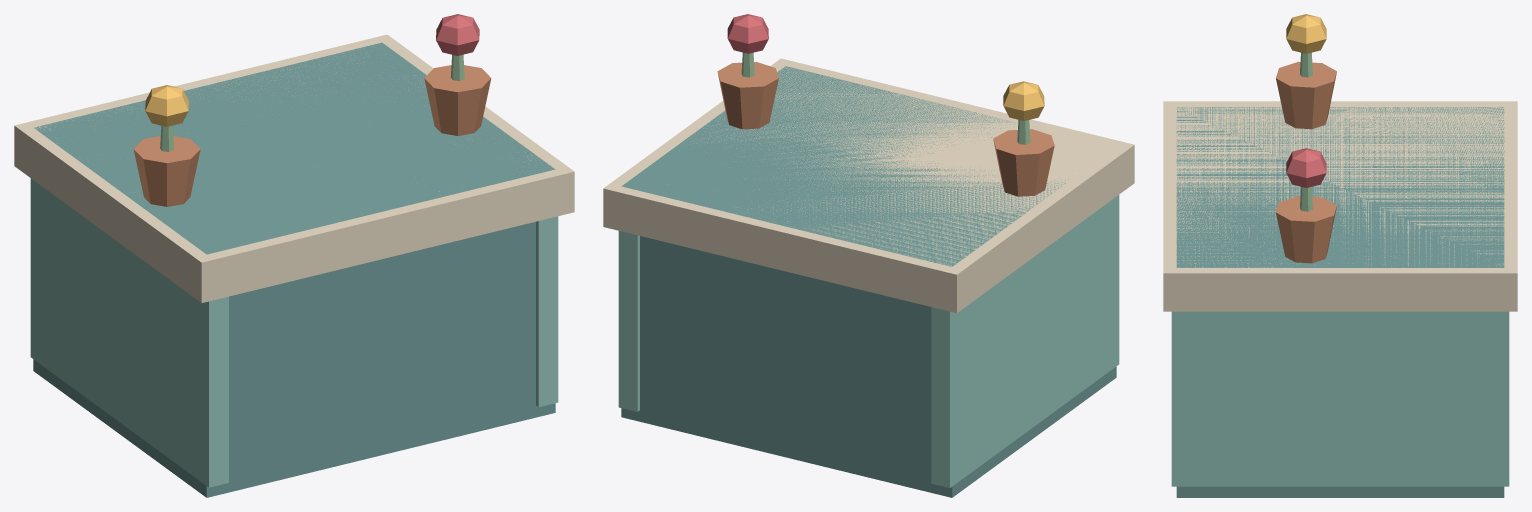
The model's file is FloristMiddleStep.glb.
3 views of the same model, side by side, from view 1: azimuth 30°, elevation 25°; view 2: azimuth 150°, elevation 25°; view 3: azimuth 270°, elevation 25° (orthographic). The views are drawn at different scales.
Parts seen in each view (by area): view 1: FloristMiddleStep; view 2: FloristMiddleStep; view 3: FloristMiddleStep.
Part boxes in pixels (<box>): FloristMiddleStep: <box>14,14,574,497</box>; FloristMiddleStep: <box>603,14,1134,497</box>; FloristMiddleStep: <box>1163,14,1517,497</box>.
Size of the model in its own units: 1.54 by 1.4 by 1.34.
